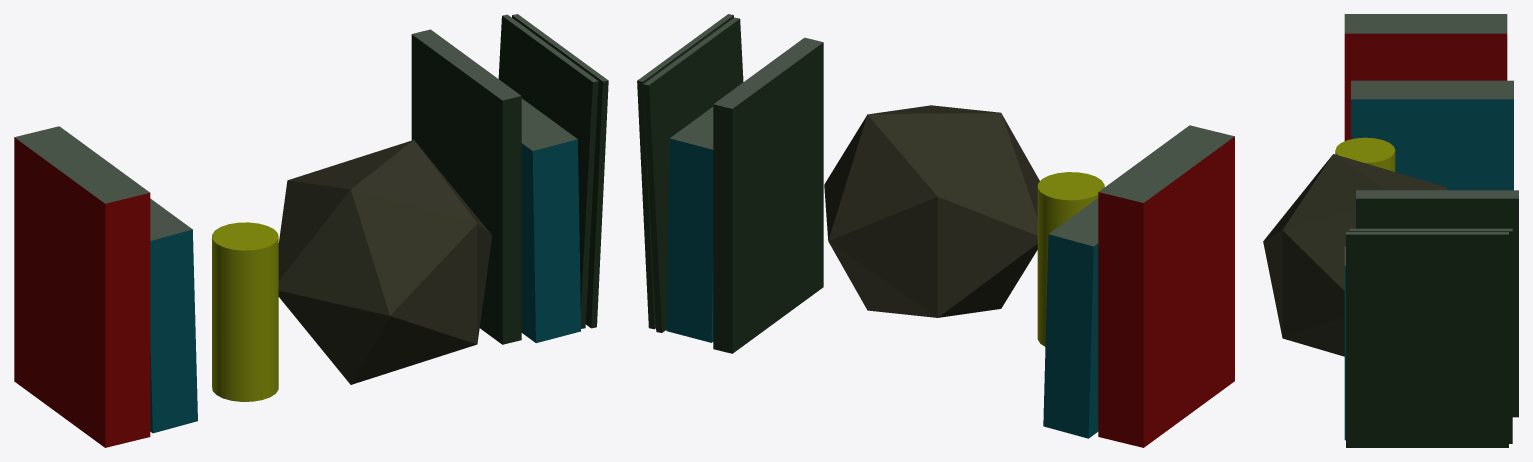
Rendered from Shelf3.fbx.
3 views of the same model, side by side, from view 1: azimuth 30°, elevation 25°; view 2: azimuth 150°, elevation 25°; view 3: azimuth 270°, elevation 25° (orthographic). The views are drawn at different scales.
Visible parts, largest first — view 1: Shelf3; view 2: Shelf3; view 3: Shelf3.
Boxes of the visible parts, x1,y1,x2,y2 form: Shelf3: [14, 14, 608, 447]; Shelf3: [637, 14, 1234, 447]; Shelf3: [1263, 14, 1518, 447].
Bounding box in the file's own units: 0.032 × 0.0149 × 0.0157.
